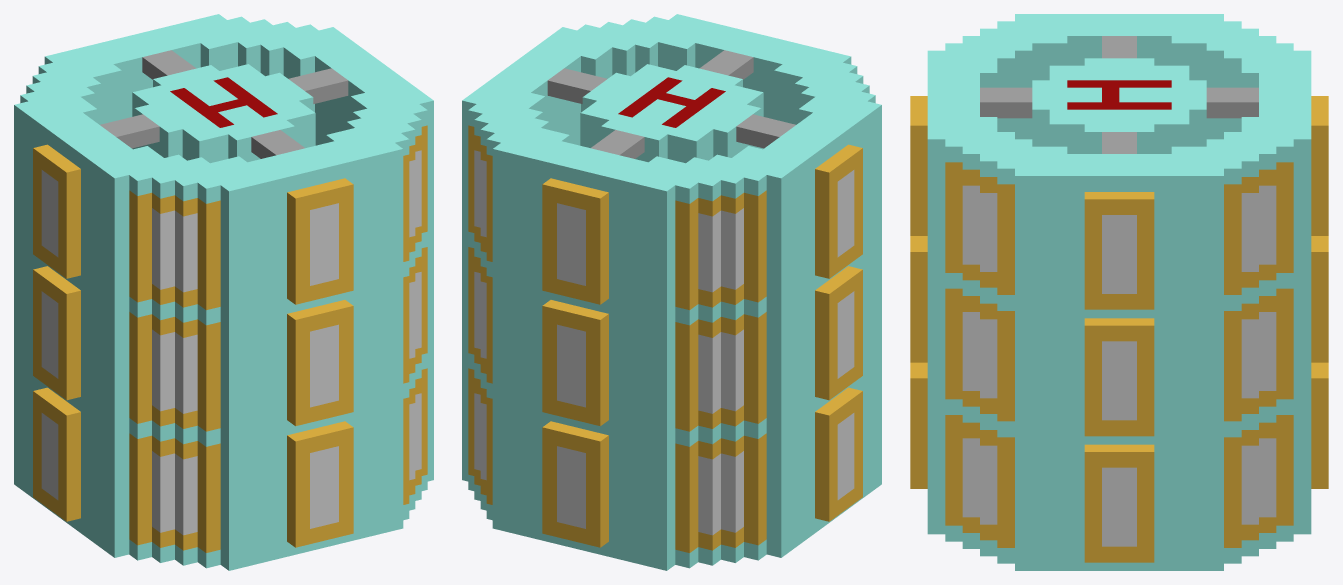
The model's file is helicopterApartment.fbx.
The picture shows the model from 3 angles, left to right: view 1: azimuth 30°, elevation 25°; view 2: azimuth 150°, elevation 25°; view 3: azimuth 270°, elevation 25°; orthographic projection. The views are drawn at different scales.
Visible parts, largest first — view 1: Torus; view 2: Torus; view 3: Torus.
Boxes of the visible parts, bbox=[...] form: Torus: bbox=[14, 14, 433, 570]; Torus: bbox=[462, 14, 881, 570]; Torus: bbox=[910, 14, 1328, 570].
Size of the model in its own units: 24 by 25 by 24.
Materials: 1 (1 with a texture image).
